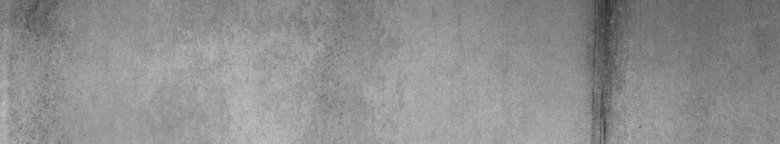hd: (589, 4, 624, 136)
